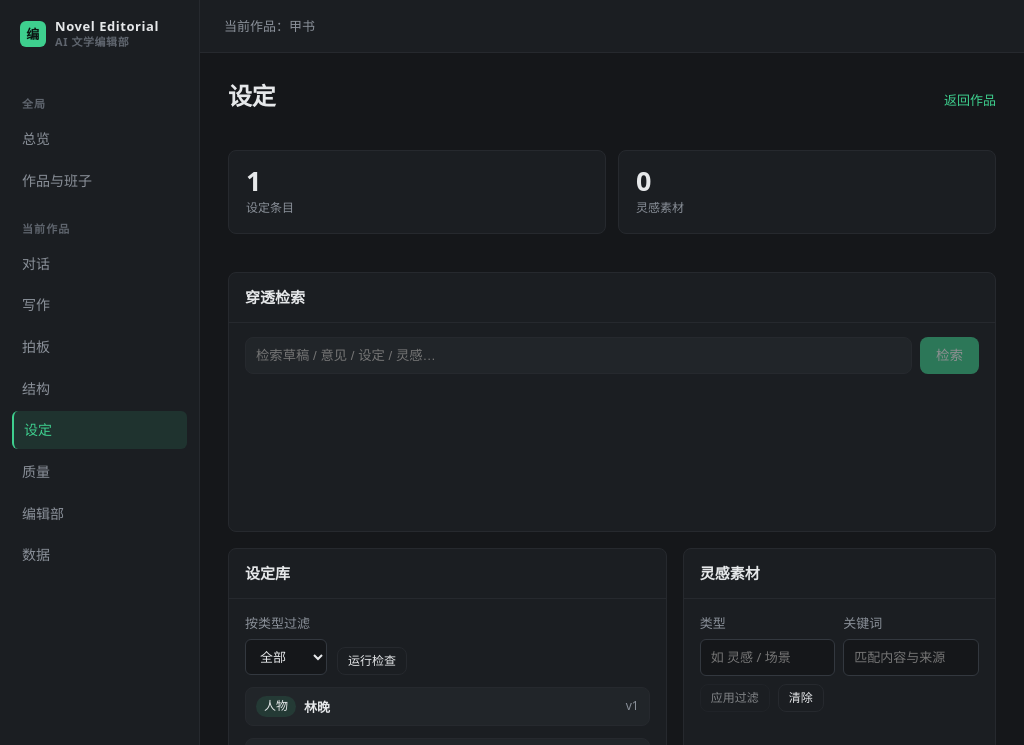
Test case: settings page › runs the check report and shows the plain-text result
expect the text "林晚" is shown: met, box [304,697,330,717]
Click the button "运行检查".
click(372, 661)  # box [337,647,407,676]
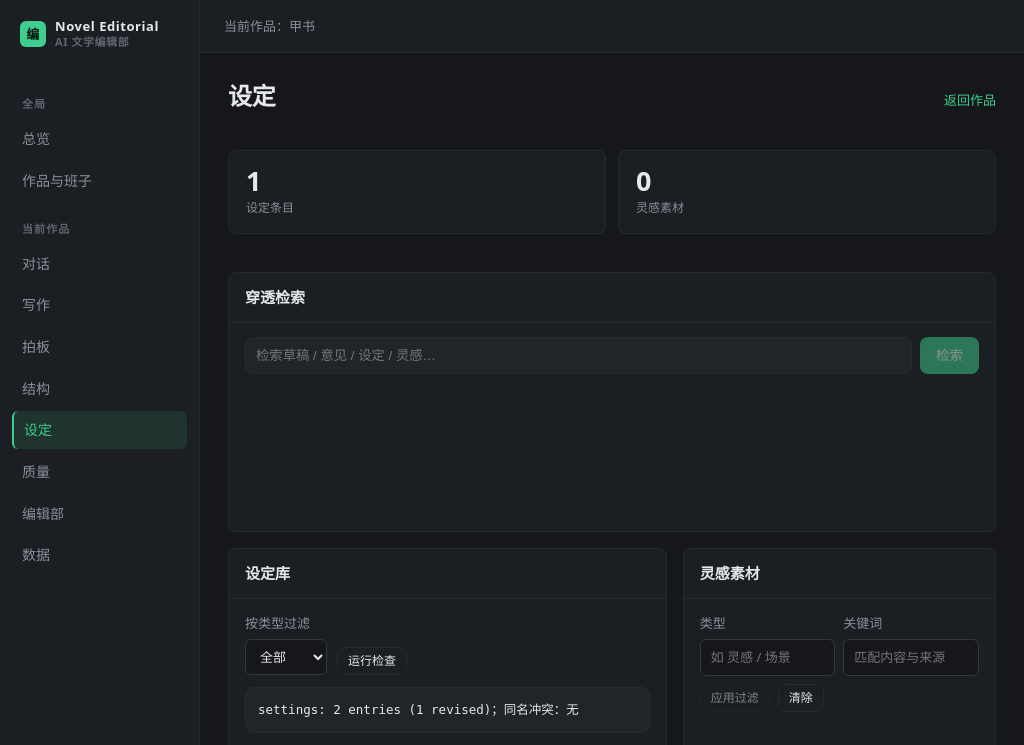
expect the text with test id "settings-check-report" shows "settings: 2 entries (1 revised)": met, box [258,702,579,718]
